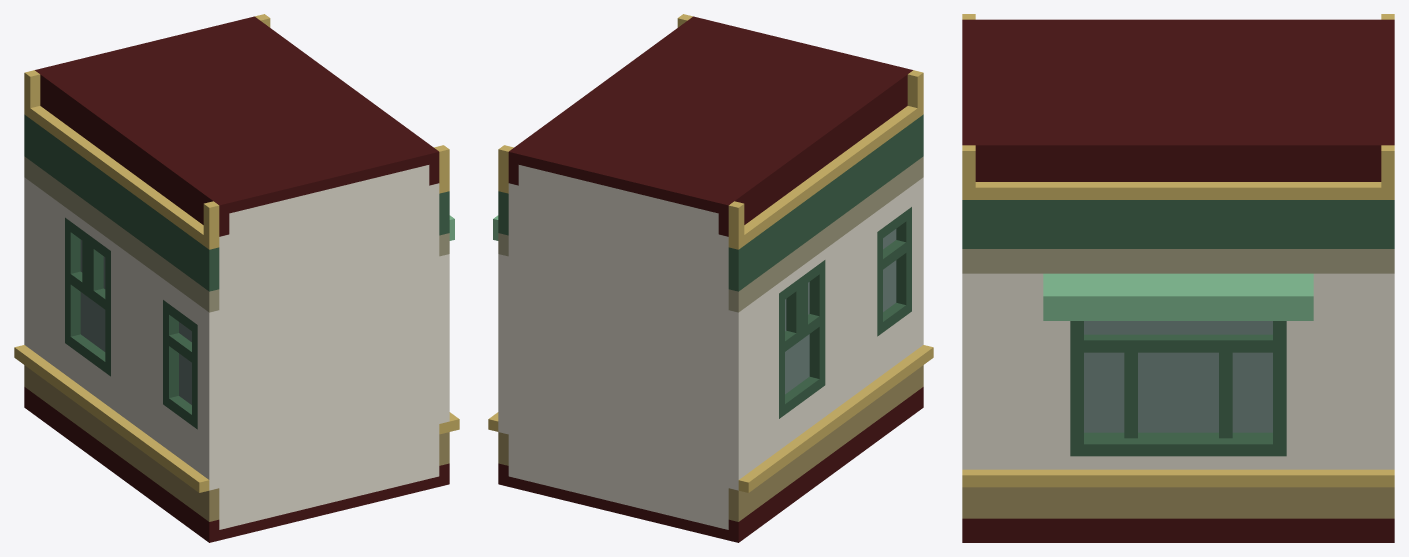
The model's file is tile_2_middle_nr_90.obj.
3 renders of one model, left to right at view 1: azimuth 30°, elevation 25°; view 2: azimuth 150°, elevation 25°; view 3: azimuth 270°, elevation 25°, orthographic. The views are drawn at different scales.
Size of the model in its own units: 2.9 by 3.2 by 3.2.
